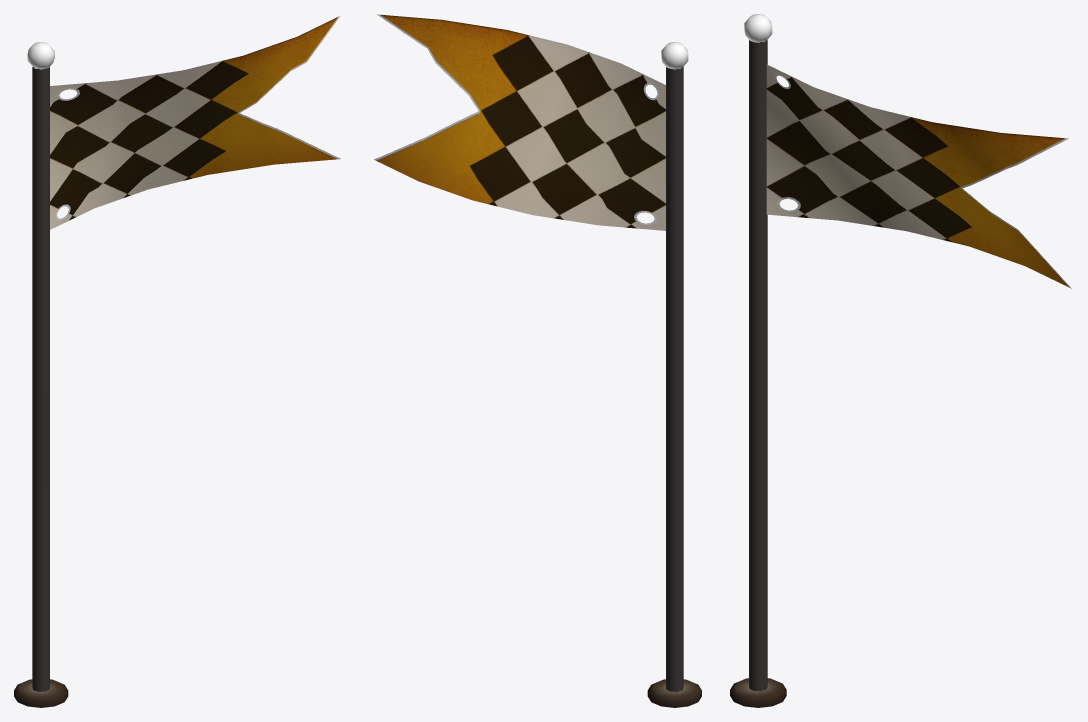
The model's file is flag.FBX.
3 renders of one model, left to right at view 1: azimuth 30°, elevation 25°; view 2: azimuth 150°, elevation 25°; view 3: azimuth 330°, elevation 25°, orthographic. The views are drawn at different scales.
Visible parts, largest first — view 1: Plane001; view 2: Plane001; view 3: Plane001.
Boxes of the visible parts, <box> form: Plane001: <box>14,16,340,707</box>; Plane001: <box>374,14,701,707</box>; Plane001: <box>730,14,1071,707</box>.
Size of the model in its own units: 27.5 by 52.63 by 5.11.
1 material, 1 textured.
